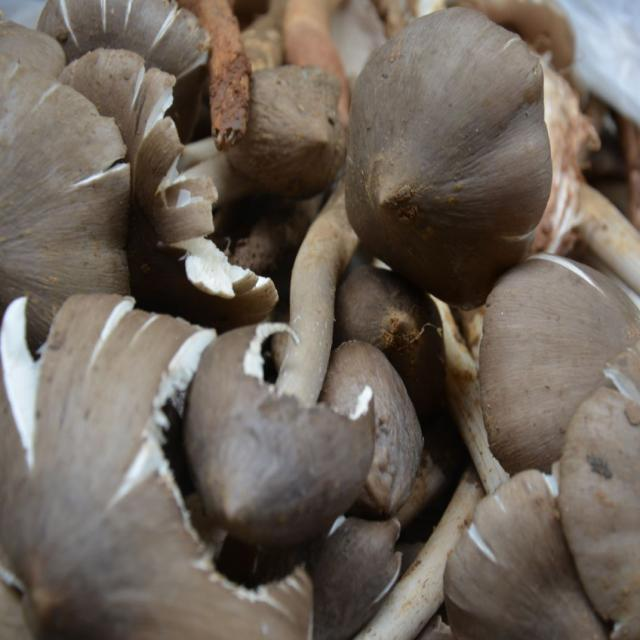Collybia albuminosa: (0, 296, 317, 634), (194, 189, 374, 550), (335, 7, 550, 302), (482, 253, 640, 473)
